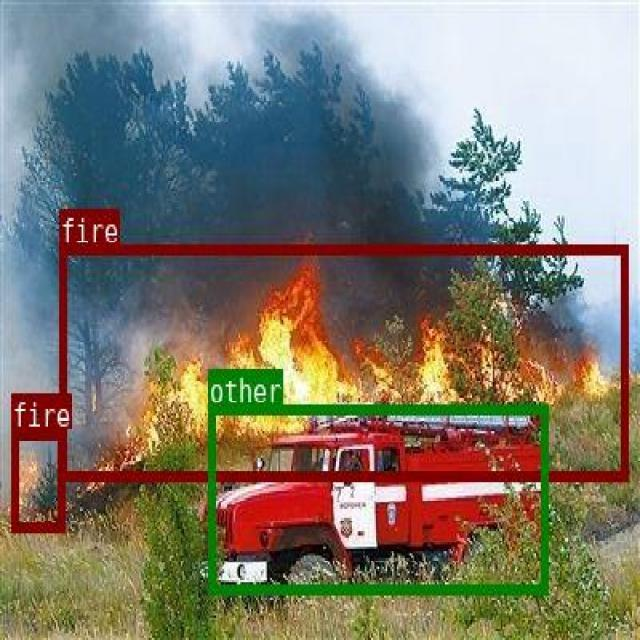fire: (59, 243, 627, 478), (11, 428, 63, 531)
